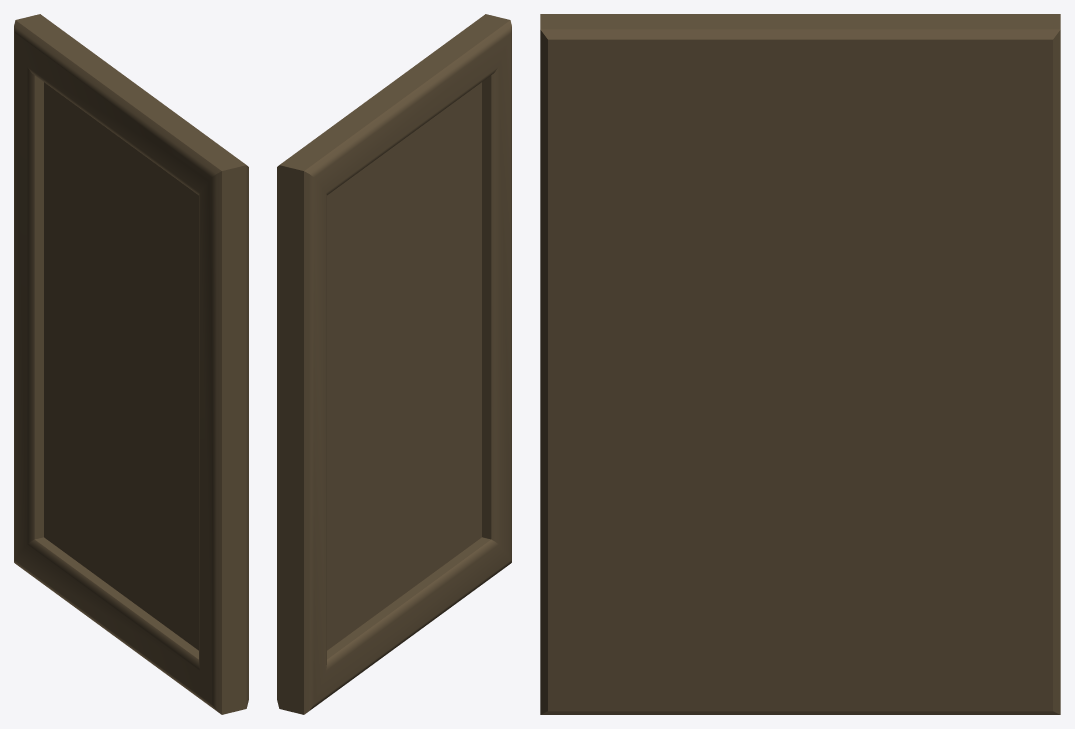
File: Board.fbx
3 views of the same model, side by side, from view 1: azimuth 30°, elevation 25°; view 2: azimuth 150°, elevation 25°; view 3: azimuth 270°, elevation 25° (orthographic). The views are drawn at different scales.
Visible parts, largest first — view 1: Board; view 2: Board; view 3: Board.
Boxes of the visible parts, left/top/right/bottom form: Board: left=14, top=14, right=248, bottom=714; Board: left=277, top=14, right=511, bottom=714; Board: left=540, top=14, right=1060, bottom=714.
Size of the model in its own units: 0.3291 by 4.82 by 3.32.
